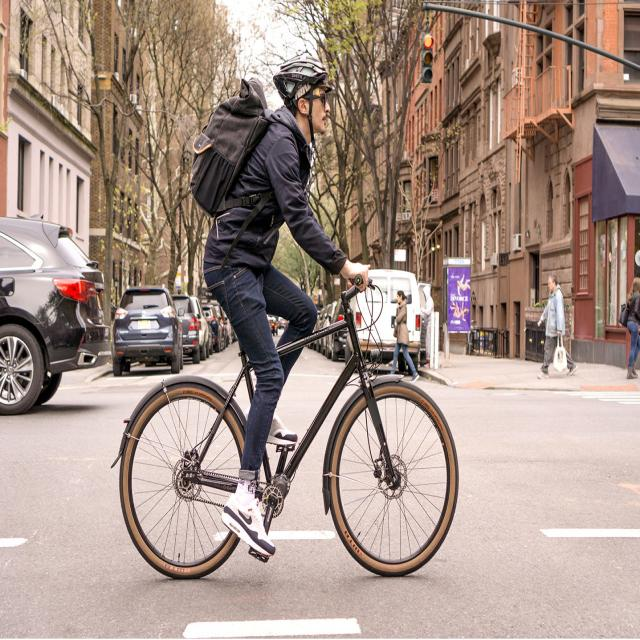bicycle: (108, 276, 462, 596)
